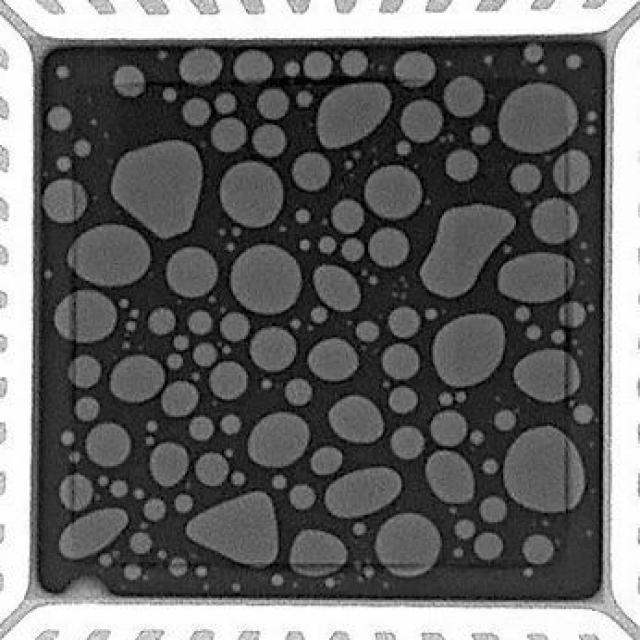component: (39, 40, 607, 601)
void: (111, 140, 203, 238), (422, 205, 516, 298), (187, 493, 279, 568), (505, 430, 586, 514), (499, 82, 581, 153), (433, 315, 507, 389), (68, 225, 150, 288), (231, 245, 302, 315), (320, 83, 392, 149), (375, 515, 444, 579), (222, 161, 283, 228), (326, 470, 401, 519), (514, 350, 583, 403), (503, 252, 573, 304), (248, 413, 311, 469), (54, 290, 117, 344), (61, 511, 129, 561), (364, 165, 424, 220), (166, 247, 220, 299), (109, 355, 166, 403), (290, 531, 348, 578), (329, 397, 385, 445), (427, 453, 477, 506), (314, 267, 363, 313), (533, 198, 581, 244), (309, 339, 359, 383), (250, 328, 298, 373), (85, 424, 131, 469), (43, 179, 87, 224), (401, 100, 444, 143), (150, 444, 191, 489), (555, 149, 594, 194), (444, 76, 486, 117), (370, 227, 411, 268), (179, 47, 222, 85), (209, 363, 250, 402), (396, 51, 438, 88), (292, 152, 331, 191), (383, 344, 422, 382), (431, 412, 470, 449), (161, 383, 200, 418), (235, 49, 274, 83), (59, 475, 94, 512), (331, 199, 366, 235), (253, 123, 289, 158), (211, 118, 248, 152), (68, 355, 102, 390), (196, 453, 229, 488), (392, 428, 427, 461), (446, 149, 481, 182), (388, 306, 422, 338), (113, 65, 146, 97), (220, 312, 252, 344), (523, 537, 557, 567), (512, 163, 544, 194), (257, 89, 290, 119), (311, 448, 344, 477), (475, 533, 505, 563), (303, 51, 335, 79), (183, 98, 213, 127), (340, 49, 370, 77), (285, 379, 314, 407), (481, 497, 509, 525), (148, 308, 176, 336), (390, 388, 420, 414), (187, 310, 215, 336), (560, 303, 588, 329), (46, 105, 72, 131), (74, 397, 100, 423), (290, 486, 316, 511), (194, 343, 218, 367), (342, 238, 366, 262), (215, 92, 239, 115), (357, 321, 381, 344), (496, 410, 520, 432), (144, 500, 166, 523), (191, 419, 213, 441), (129, 535, 152, 556), (220, 415, 242, 436), (575, 404, 597, 425), (455, 520, 477, 541), (168, 558, 189, 577), (525, 44, 546, 63), (318, 236, 338, 255), (109, 480, 128, 499), (176, 495, 194, 514), (474, 127, 494, 144), (311, 306, 329, 324), (296, 91, 314, 108), (483, 459, 501, 476), (516, 306, 533, 324), (74, 140, 91, 157), (166, 354, 183, 371), (527, 325, 544, 342), (285, 60, 302, 77), (568, 54, 585, 70), (124, 566, 142, 581), (296, 208, 311, 224), (231, 471, 246, 487), (472, 430, 486, 447), (57, 156, 72, 171), (163, 87, 178, 102), (440, 392, 455, 407), (553, 330, 568, 345), (272, 477, 289, 490), (55, 65, 70, 79), (425, 308, 440, 322), (398, 140, 412, 155), (176, 335, 189, 351), (61, 432, 74, 447), (98, 555, 113, 568), (68, 451, 81, 465), (353, 524, 366, 538), (146, 421, 159, 434), (272, 575, 285, 588), (300, 239, 313, 251), (261, 379, 274, 391), (290, 319, 302, 331), (588, 111, 601, 122), (133, 490, 146, 501), (196, 567, 207, 579), (364, 567, 375, 579), (457, 392, 468, 403), (231, 584, 242, 595), (129, 310, 141, 320), (126, 323, 137, 333), (118, 299, 129, 309), (485, 54, 496, 64), (231, 227, 242, 237), (43, 270, 54, 280), (588, 125, 599, 135), (98, 477, 109, 487), (157, 551, 168, 561), (525, 569, 536, 579), (455, 549, 466, 559), (344, 160, 355, 170), (352, 150, 363, 160), (326, 578, 335, 590), (540, 63, 549, 73), (146, 437, 155, 447), (370, 276, 379, 286), (157, 51, 167, 60), (383, 381, 392, 391), (226, 243, 237, 251), (191, 373, 200, 382), (227, 450, 235, 460), (222, 346, 231, 354), (89, 118, 98, 126), (449, 508, 457, 516), (122, 341, 129, 349), (220, 228, 226, 237)
